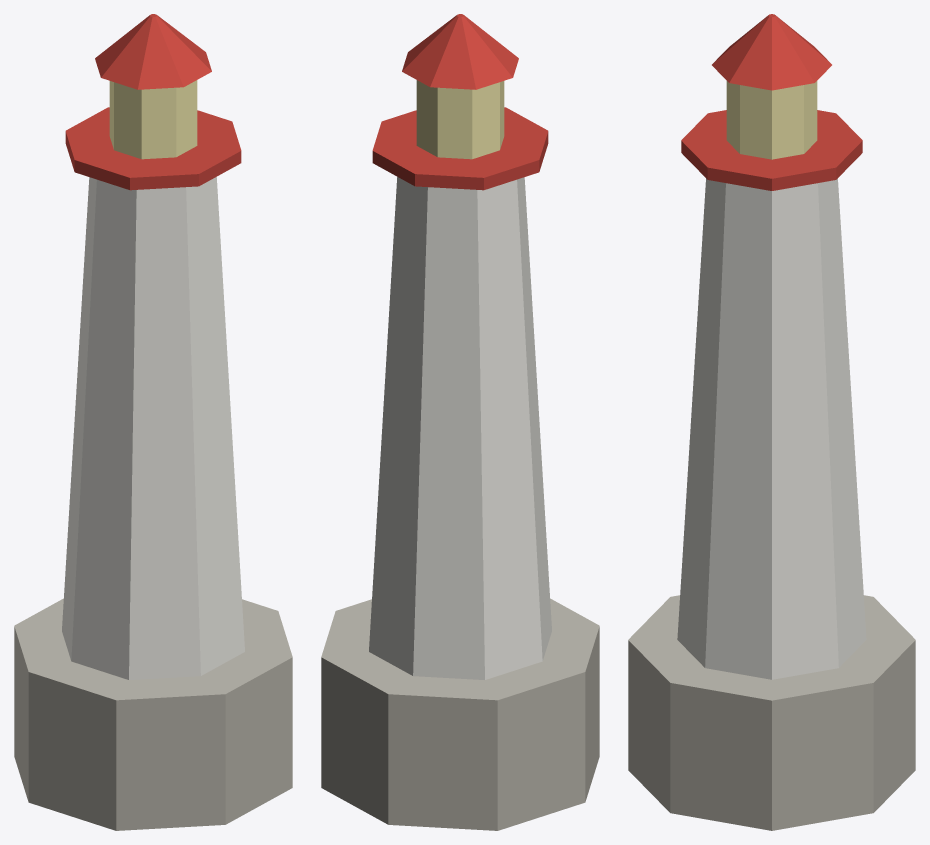
The model's file is lighthouse.glb.
3 views of the same model, side by side, from view 1: azimuth 30°, elevation 25°; view 2: azimuth 150°, elevation 25°; view 3: azimuth 270°, elevation 25° (orthographic).
Visible parts, largest first — view 1: lighthouse; view 2: lighthouse; view 3: lighthouse.
Part boxes in pixels (<box>): lighthouse: <box>14,14,292,830</box>; lighthouse: <box>321,14,599,830</box>; lighthouse: <box>628,14,915,830</box>.
Bounding box in the file's own units: 3.8 × 11 × 3.8.
